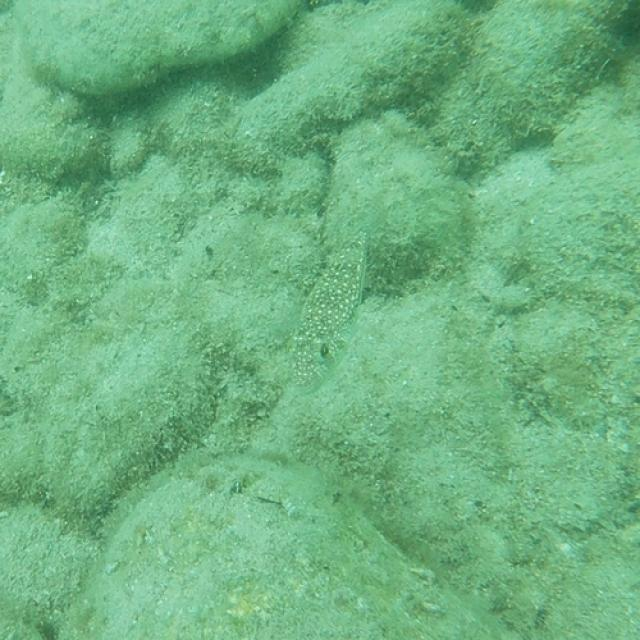Balik: (294, 235, 366, 386)
